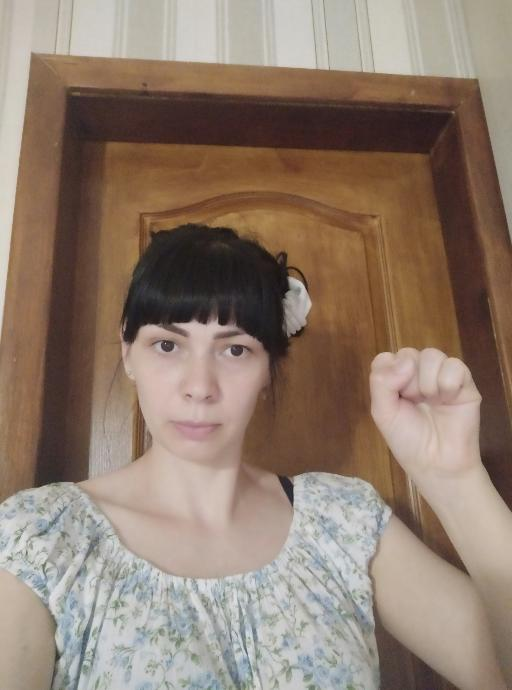fist: (359, 341, 490, 476)
